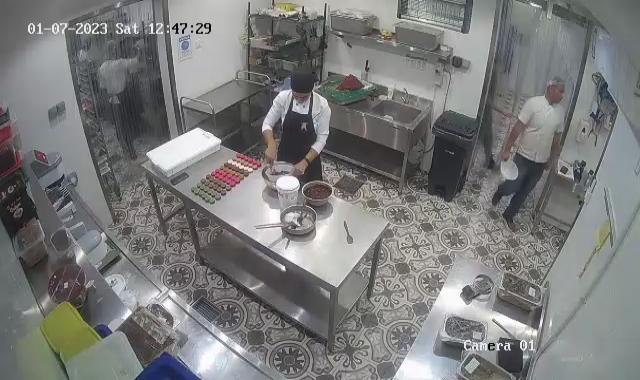hairnet: (545, 74, 565, 96)
no_hairnet: (288, 66, 316, 99)
